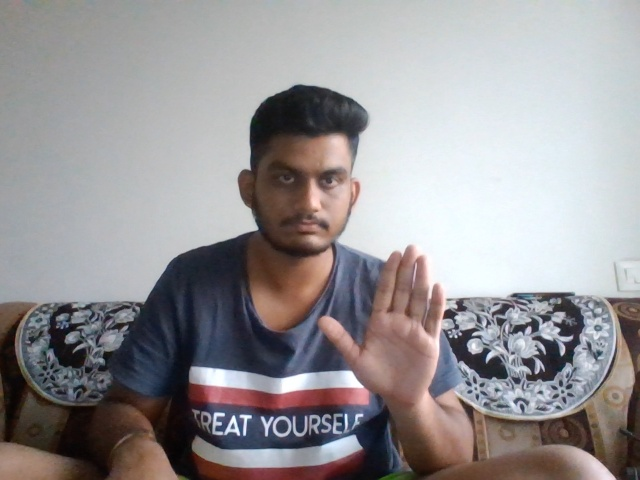Hello: (318, 243, 466, 401)
